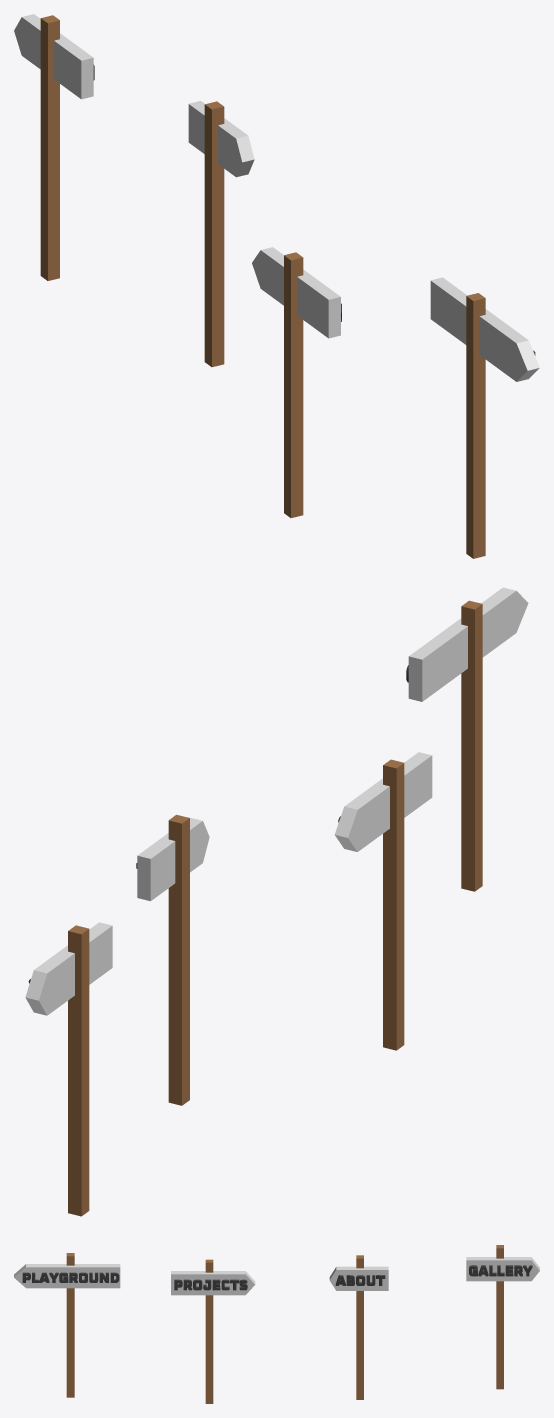
File: signs.glb
3 views of the same model, one above another, from view 1: azimuth 30°, elevation 25°; view 2: azimuth 150°, elevation 25°; view 3: azimuth 270°, elevation 25° (orthographic). The views are drawn at different scales.
Parts seen in each view (by area): view 1: Cube.004, Cube.010, Cube.006, Cube.009; view 2: Cube.004, Cube.010, Cube.006, Cube.009; view 3: Cube.004, Cube.010, Cube.006, Cube.009.
Part boxes in pixels (left/top/right/bottom): Cube.004: left=430, top=277, right=539, bottom=558; Cube.010: left=252, top=247, right=341, bottom=517; Cube.006: left=14, top=14, right=94, bottom=280; Cube.009: left=188, top=101, right=254, bottom=367; Cube.004: left=406, top=587, right=528, bottom=891; Cube.010: left=334, top=752, right=432, bottom=1050; Cube.006: left=25, top=922, right=112, bottom=1216; Cube.009: left=136, top=814, right=209, bottom=1105; Cube.004: left=14, top=1253, right=120, bottom=1397; Cube.010: left=171, top=1259, right=255, bottom=1403; Cube.006: left=466, top=1245, right=539, bottom=1389; Cube.009: left=329, top=1255, right=388, bottom=1399.
Bounding box in the file's own units: 1.32 × 4.6 × 13.51.
